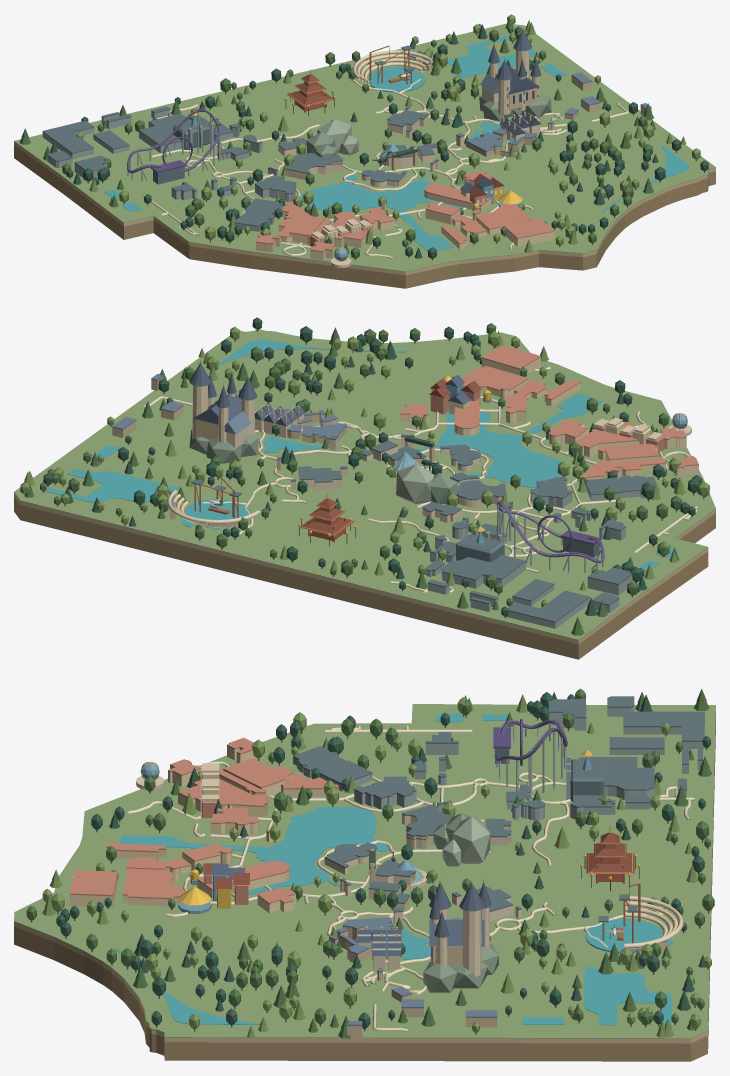
The model's file is beijing-park.glb.
3 renders of one model, top to bottom at view 1: azimuth 30°, elevation 25°; view 2: azimuth 150°, elevation 25°; view 3: azimuth 270°, elevation 25°, orthographic. The views are drawn at different scales.
Visible parts, largest first — view 1: Park · grass, Park · earth, Park · industrial, Park · water, Park · leaf, Park · leaf_dark, Park · leaf_light, Park · coral, Park · stone_light, Park · industrial_light, Park · cream, Park · road (+11 smaller); view 2: Park · grass, Park · earth, Park · industrial, Park · water, Park · leaf, Park · leaf_dark, Park · leaf_light, Park · coral, Park · stone_light, Park · industrial_light, Park · road, Park · cream (+10 smaller); view 3: Park · grass, Park · industrial, Park · earth, Park · water, Park · leaf, Park · coral, Park · leaf_dark, Park · leaf_light, Park · road, Park · stone_light, Park · industrial_light, Park · cream (+11 smaller).
Boxes of the visible parts, box(x1,y1,x2,y2) form: Park · grass: box(14, 23, 715, 271); Park · earth: box(14, 145, 715, 288); Park · industrial: box(42, 45, 464, 226); Park · water: box(104, 35, 689, 250); Park · leaf: box(19, 17, 655, 258); Park · leaf_dark: box(50, 24, 708, 259); Park · leaf_light: box(76, 14, 700, 252); Park · coral: box(256, 170, 554, 252); Park · stone_light: box(278, 50, 540, 267); Park · industrial_light: box(42, 72, 479, 231); Park · cream: box(256, 54, 554, 260); Park · road: box(143, 77, 628, 258); Park · grass: box(14, 329, 715, 640); Park · earth: box(14, 497, 715, 659); Park · industrial: box(191, 434, 659, 622); Park · water: box(44, 339, 677, 571); Park · leaf: box(25, 323, 682, 635); Park · leaf_dark: box(43, 317, 702, 616); Park · leaf_light: box(20, 326, 709, 607); Park · coral: box(400, 344, 698, 478); Park · stone_light: box(167, 385, 691, 526); Park · industrial_light: box(210, 392, 659, 628); Park · road: box(143, 367, 697, 593); Park · cream: box(172, 357, 698, 527); Park · grass: box(14, 704, 715, 1038); Park · industrial: box(293, 696, 704, 938); Park · earth: box(14, 717, 715, 1061); Park · water: box(115, 713, 673, 1025); Park · leaf: box(26, 688, 714, 1038); Park · coral: box(70, 737, 338, 904); Park · leaf_dark: box(56, 692, 710, 1029); Park · leaf_light: box(42, 694, 711, 1037); Park · road: box(72, 725, 694, 1031); Park · stone_light: box(136, 763, 683, 976); Park · industrial_light: box(189, 707, 704, 932); Park · cream: box(70, 746, 678, 951).
Size of the model in its own units: 95.03 by 16.9 by 84.05.
